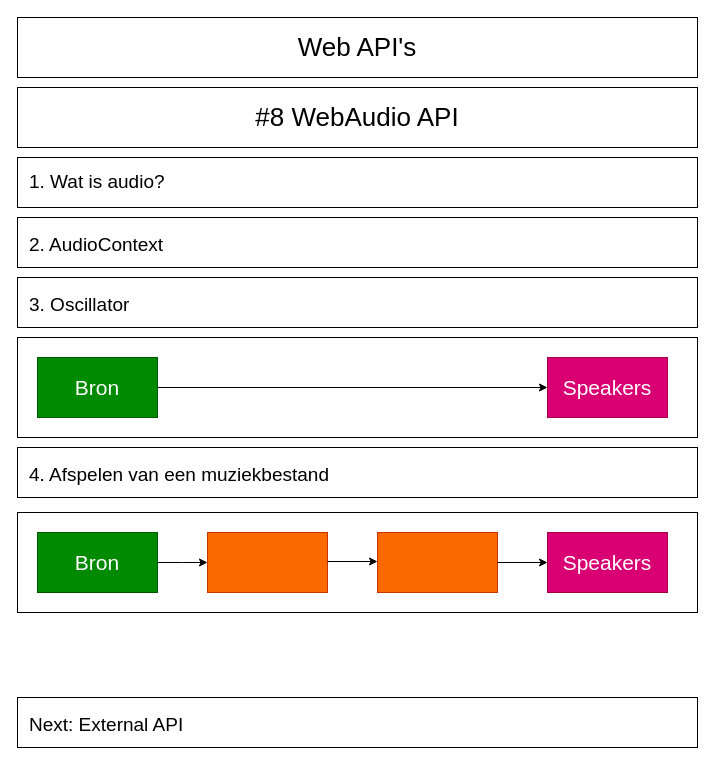
The diagram is 715 pixels wide and 765 high, and some of its shapes have lost their labels. Each missing label, with the box of its shape:
Panner: (376, 532, 498, 592)
Volume: (206, 532, 328, 592)
